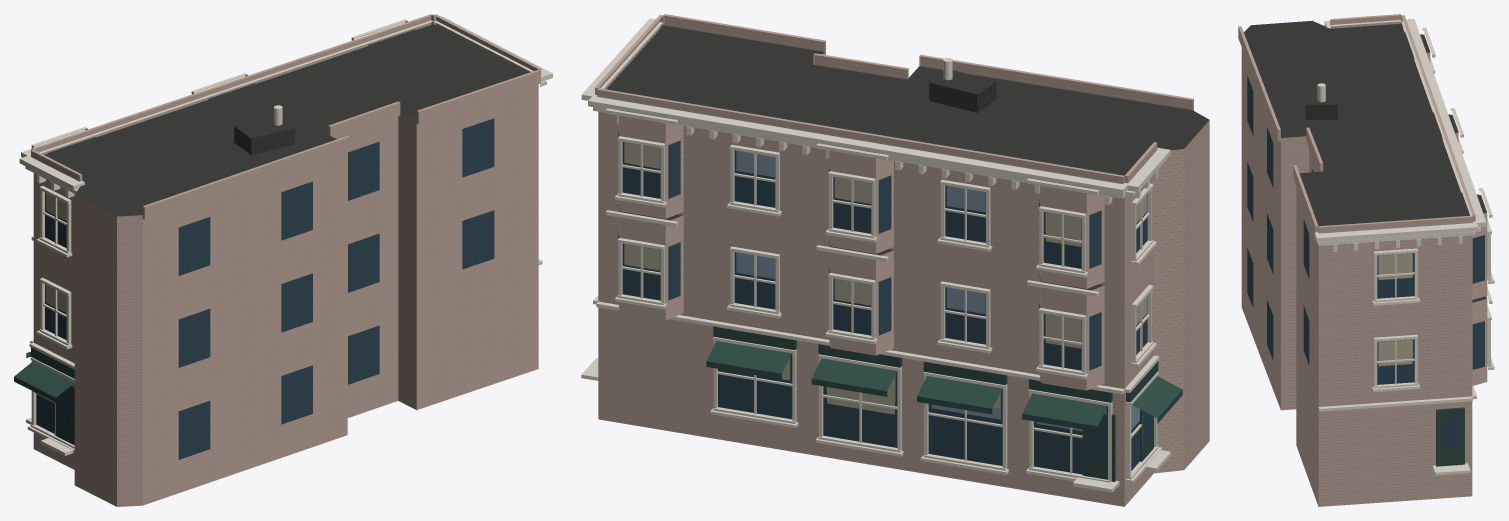
3 views of the same model, side by side, from view 1: azimuth 30°, elevation 25°; view 2: azimuth 150°, elevation 25°; view 3: azimuth 270°, elevation 25° (orthographic). The views are drawn at different scales.
Visible parts, largest first — view 1: Footprint 0 / surface 2, Footprint 0 / surface 1, Inset glazing, Facade bay volumes, Cornices and window frames, Storefronts and doors, Inferred rooftop service enclosure / surface 5, Interior blind variation, Inferred rooftop service enclosure / surface 3; view 2: Footprint 0 / surface 2, Cornices and window frames, Footprint 0 / surface 1, Facade bay volumes, Inset glazing, Storefronts and doors, Interior blind variation, Sky reflection panels, Inferred rooftop service enclosure / surface 6, Inferred rooftop service enclosure / surface 3; view 3: Footprint 0 / surface 2, Footprint 0 / surface 1, Cornices and window frames, Inset glazing, Facade bay volumes, Interior blind variation, Storefronts and doors, Inferred rooftop service enclosure / surface 3, Inferred rooftop service enclosure / surface 1, Roof.
Part boxes in pixels (x1,y1,x2,y2): Footprint 0 / surface 2: (33, 84, 538, 506); Footprint 0 / surface 1: (44, 24, 527, 216); Inset glazing: (36, 118, 494, 459); Facade bay volumes: (31, 14, 541, 219); Cornices and window frames: (19, 16, 552, 455); Storefronts and doors: (14, 347, 74, 445); Inferred rooftop service enclosure / surface 5: (251, 128, 295, 154); Interior blind variation: (46, 193, 66, 312); Inferred rooftop service enclosure / surface 3: (234, 116, 294, 138); Footprint 0 / surface 2: (598, 52, 1209, 506); Cornices and window frames: (581, 18, 1170, 492); Footprint 0 / surface 1: (606, 25, 1209, 175); Facade bay volumes: (595, 14, 1193, 390); Inset glazing: (618, 131, 1151, 474); Storefronts and doors: (706, 326, 1182, 481); Interior blind variation: (624, 142, 1147, 414); Sky reflection panels: (624, 142, 1139, 431); Inferred rooftop service enclosure / surface 6: (929, 83, 977, 112); Inferred rooftop service enclosure / surface 3: (929, 70, 995, 94); Footprint 0 / surface 2: (1241, 48, 1472, 506); Footprint 0 / surface 1: (1244, 20, 1469, 226); Cornices and window frames: (1314, 19, 1494, 475); Inset glazing: (1247, 76, 1484, 448); Facade bay volumes: (1238, 14, 1487, 385); Interior blind variation: (1378, 253, 1412, 366); Storefronts and doors: (1436, 407, 1464, 466); Inferred rooftop service enclosure / surface 3: (1305, 84, 1337, 104); Inferred rooftop service enclosure / surface 1: (1305, 104, 1337, 119); Roof: (1404, 32, 1486, 302).
Size of the model in its own units: 20.42 by 12.66 by 9.69.
